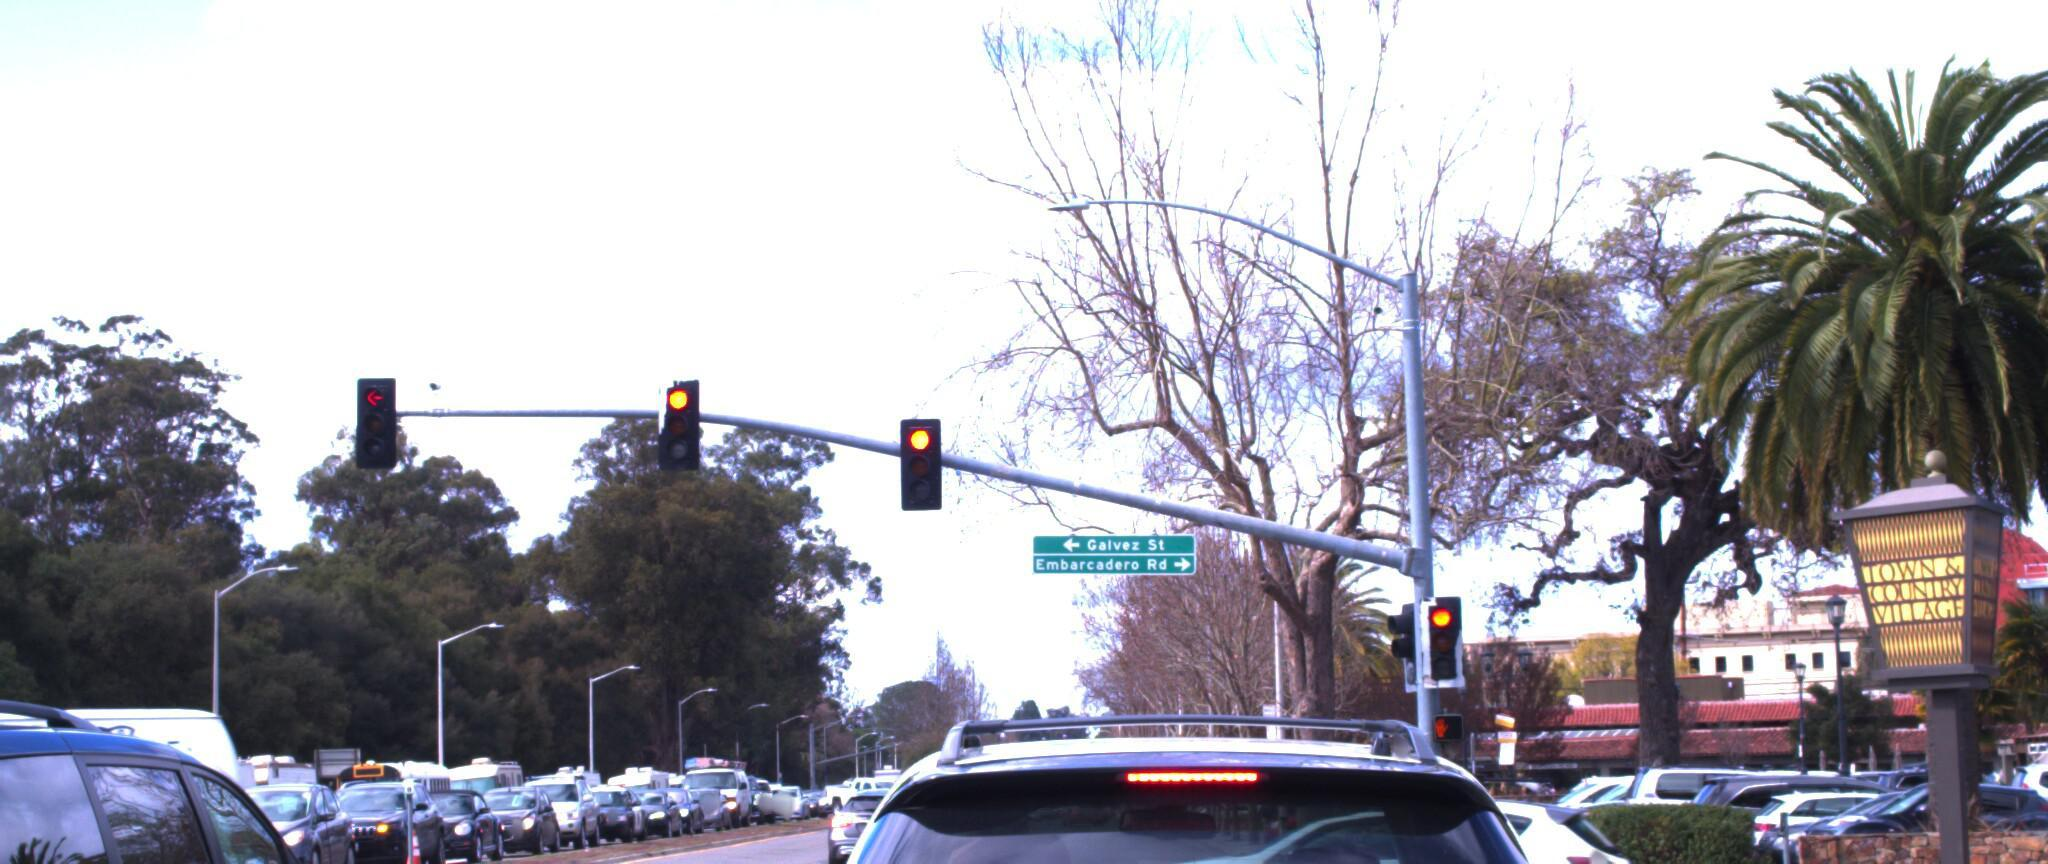car: (673, 677, 1732, 864), (0, 679, 444, 864), (1088, 756, 1656, 864), (0, 677, 289, 864), (1674, 750, 1981, 856), (1733, 765, 2048, 864), (1799, 756, 2048, 864), (191, 762, 370, 864), (810, 752, 959, 857), (296, 762, 456, 857), (380, 773, 519, 847), (509, 747, 619, 825)
